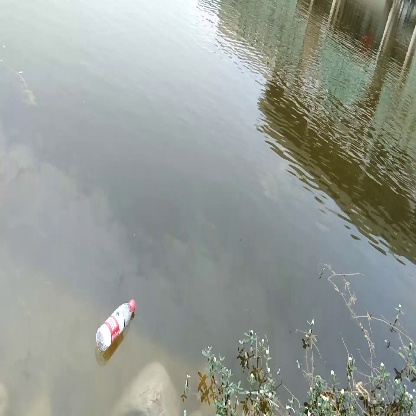bottle: (93, 298, 138, 353)
